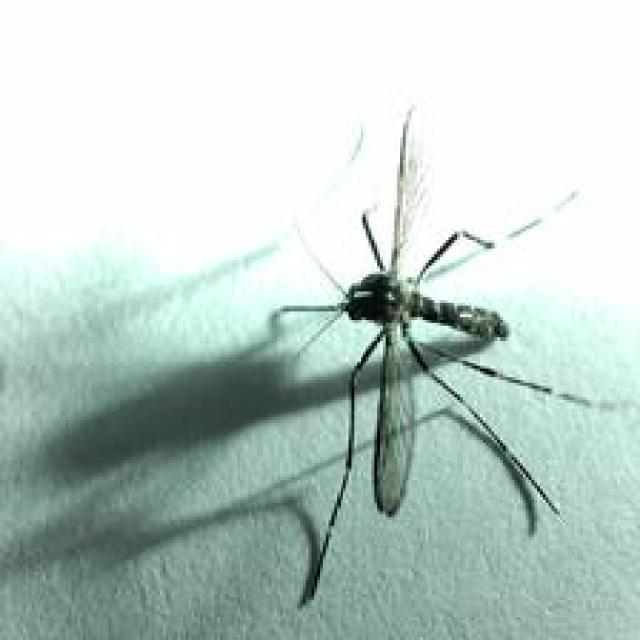Aedes albopictus: (267, 103, 602, 608)
